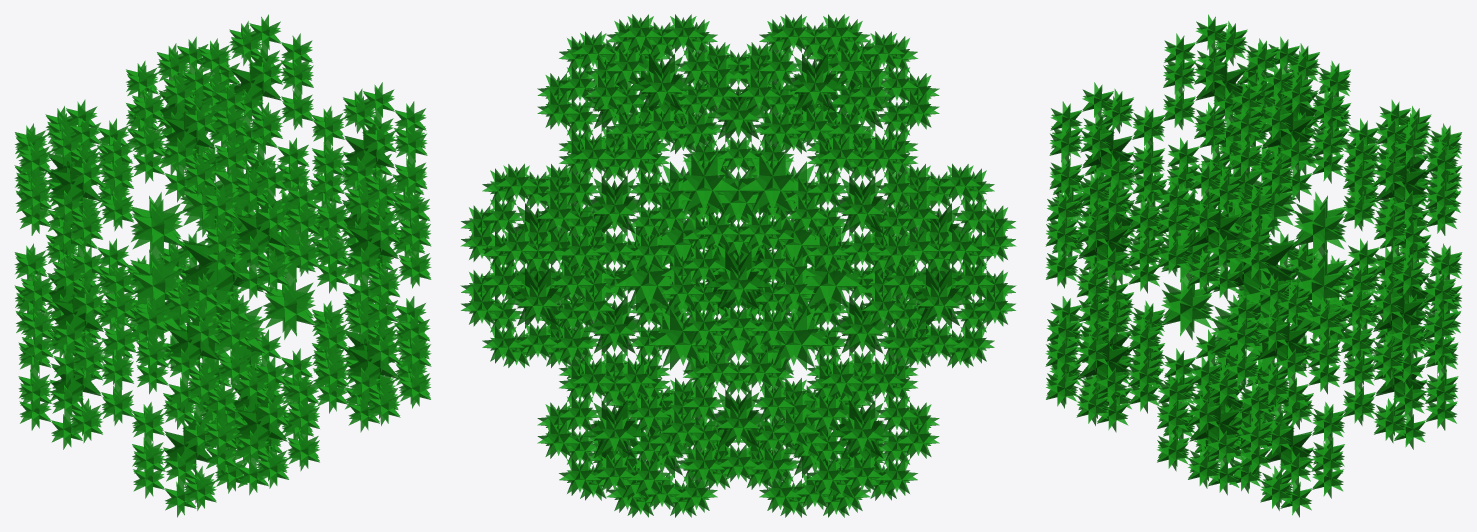
Rendered from fractalgreatstellateddodecahedron2.glb.
3 views of the same model, side by side, from view 1: azimuth 30°, elevation 25°; view 2: azimuth 150°, elevation 25°; view 3: azimuth 270°, elevation 25° (orthographic). The views are drawn at different scales.
Bounding box in the file's own units: 10.98 × 10.39 × 9.
